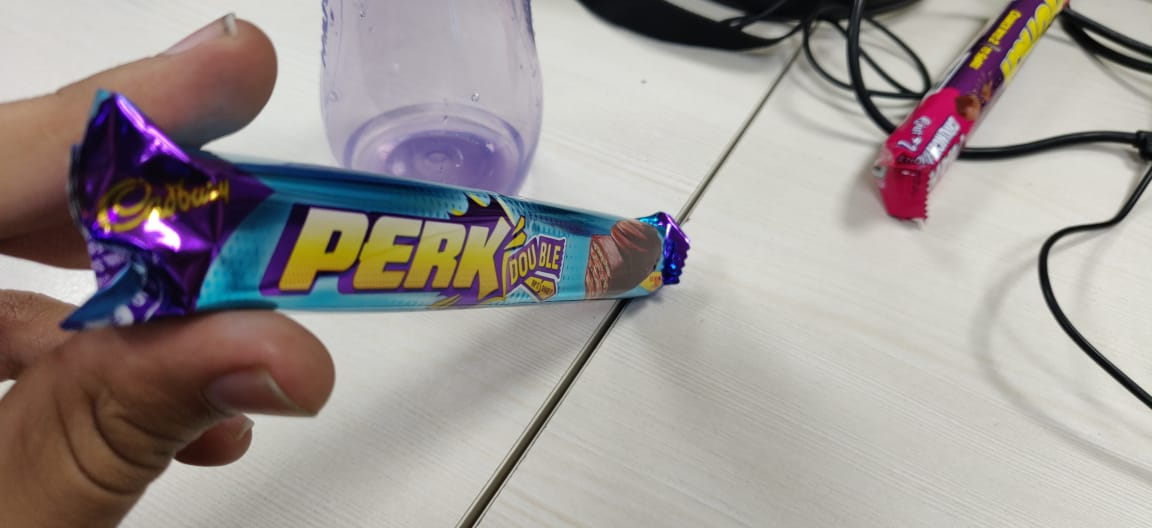perk: (52, 70, 713, 350)
